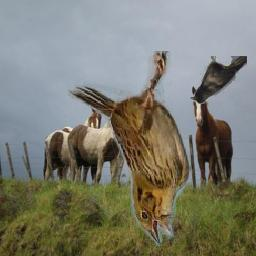Crow: (189, 56, 247, 104)
Sparrow: (69, 52, 192, 247)
